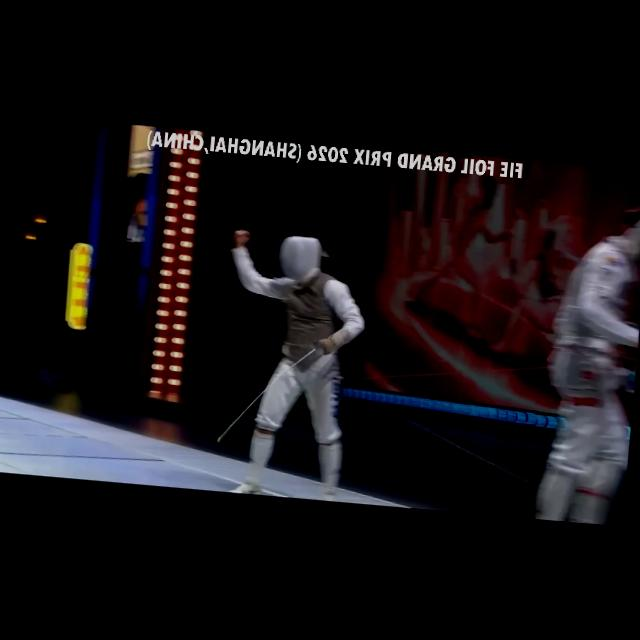blade: (212, 325, 334, 457)
